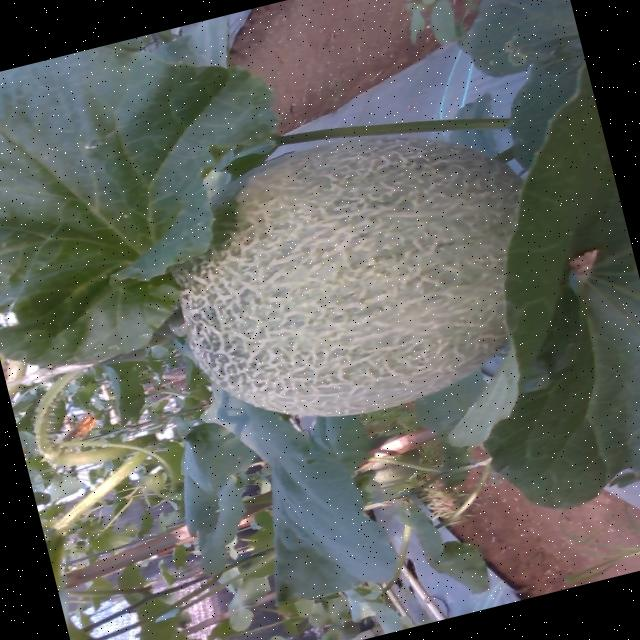melon: (180, 136, 521, 415)
